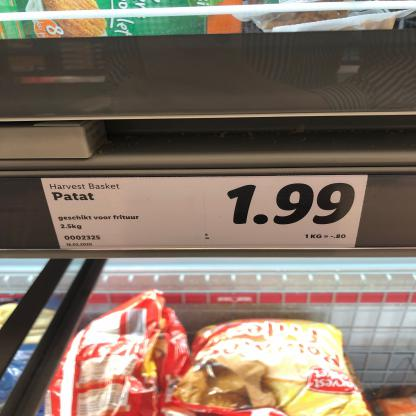prtg: (42, 176, 370, 250)
